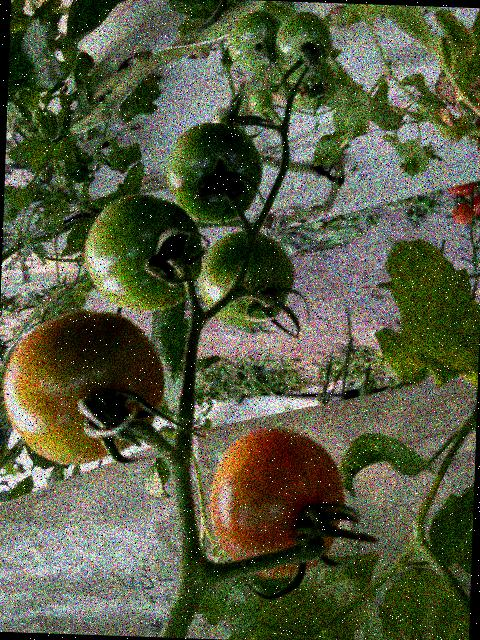l_fully_ripened: (452, 201, 480, 226), (447, 181, 476, 198), (469, 192, 480, 217)
l_green: (82, 192, 205, 315), (163, 121, 265, 225), (198, 229, 296, 330), (274, 11, 333, 73), (228, 10, 282, 73), (288, 60, 337, 111), (247, 88, 274, 114), (211, 107, 235, 125)
l_half_ripened: (1, 307, 168, 469), (208, 423, 349, 581)
